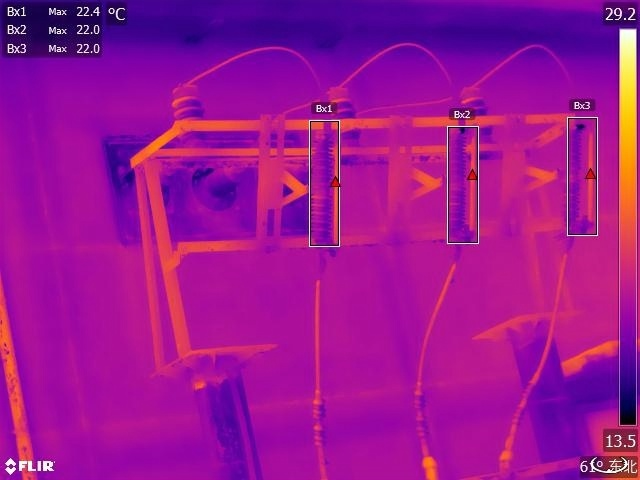tube: (304, 130, 344, 257), (443, 135, 478, 248), (568, 121, 599, 227), (171, 77, 209, 146), (322, 84, 361, 149), (459, 89, 497, 148), (192, 161, 246, 200), (507, 374, 546, 428), (304, 387, 331, 458), (410, 385, 434, 446)
